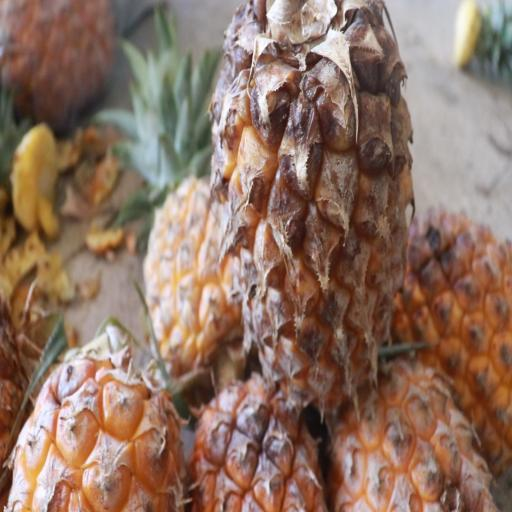Pineapple - v8 v1: (200, 0, 418, 419), (145, 110, 280, 400), (392, 201, 512, 502), (11, 321, 188, 512), (315, 333, 492, 509), (178, 352, 314, 511)
